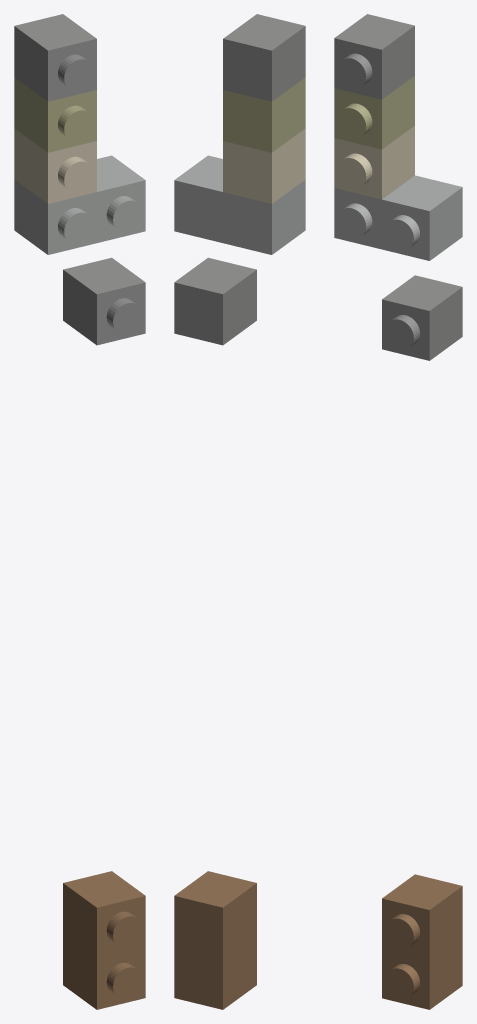
Rendered from current.glb.
The picture shows the model from 3 angles, left to right: view 1: azimuth 30°, elevation 25°; view 2: azimuth 150°, elevation 25°; view 3: azimuth 330°, elevation 25°; orthographic projection. The views are drawn at different scales.
Parts seen in each view (by area): view 1: world; view 2: world; view 3: world.
Boxes of the visible parts, x1,y1,x2,y2 form: world: (14,14,145,1009); world: (174,14,305,1009); world: (334,14,462,1009).
Size of the model in its own units: 16 by 152 by 11.4.
